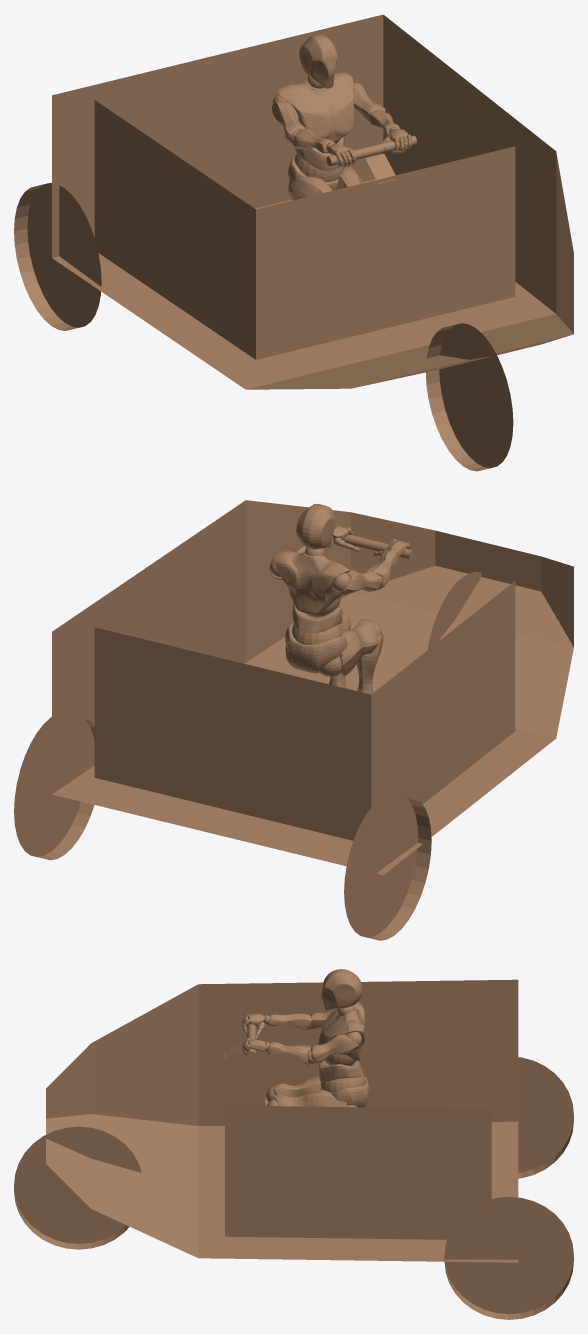
File: three-wheel.glb
The picture shows the model from 3 angles, top to bottom: view 1: azimuth 30°, elevation 25°; view 2: azimuth 150°, elevation 25°; view 3: azimuth 270°, elevation 25°; orthographic projection. The views are drawn at different scales.
Visible parts, largest first — view 1: xier120.three-wheel.mesh.002, xier120.three-wheel.mesh.000, xier120.three-wheel.mesh.001; view 2: xier120.three-wheel.mesh.002, xier120.three-wheel.mesh.000, xier120.three-wheel.mesh.001; view 3: xier120.three-wheel.mesh.002, xier120.three-wheel.mesh.000, xier120.three-wheel.mesh.001.
Part boxes in pixels (box(x1,y1,x2,y2)): xier120.three-wheel.mesh.002: box(14, 14, 573, 471); xier120.three-wheel.mesh.000: box(272, 34, 411, 200); xier120.three-wheel.mesh.001: box(272, 76, 411, 182); xier120.three-wheel.mesh.002: box(14, 500, 573, 940); xier120.three-wheel.mesh.000: box(269, 503, 409, 694); xier120.three-wheel.mesh.001: box(270, 525, 409, 676); xier120.three-wheel.mesh.002: box(14, 979, 573, 1319); xier120.three-wheel.mesh.000: box(242, 969, 369, 1107); xier120.three-wheel.mesh.001: box(241, 1005, 365, 1107).
Size of the model in its own units: 2.09 by 1.85 by 3.39.
